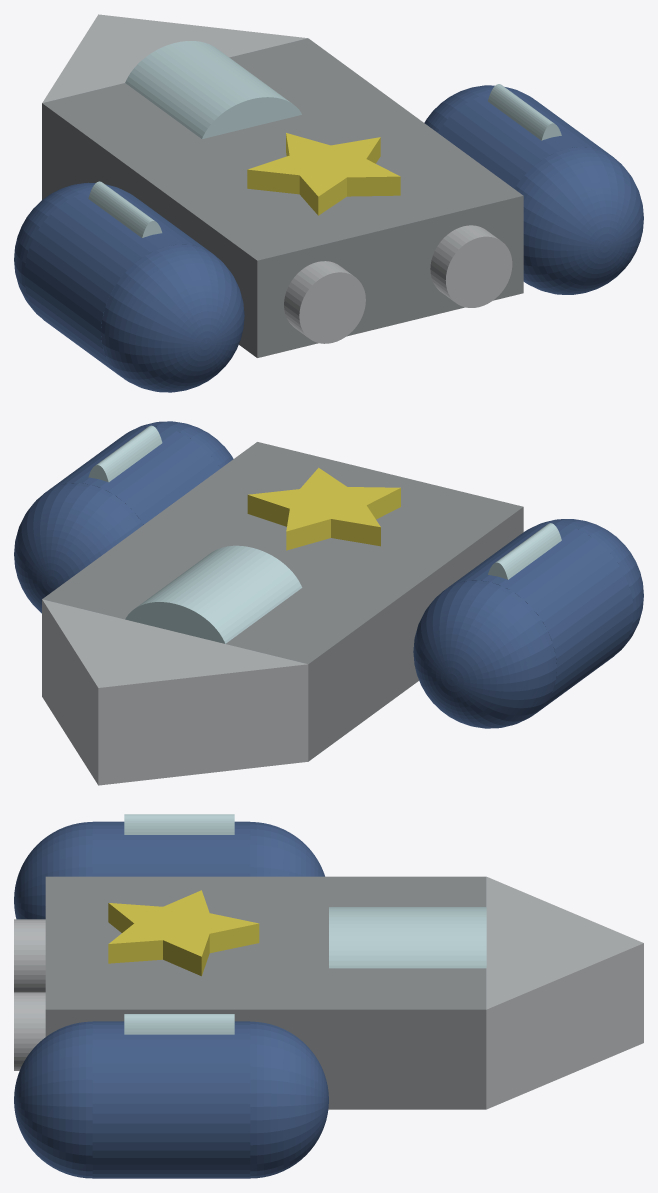
Rendered from elasticity_ship.glb.
3 views of the same model, one above another, from view 1: azimuth 30°, elevation 25°; view 2: azimuth 150°, elevation 25°; view 3: azimuth 270°, elevation 25° (orthographic). The views are drawn at different scales.
Visible parts, largest first — view 1: Mesh_Mesh_head_geo.001_lambert2SG.001; view 2: Mesh_Mesh_head_geo.001_lambert2SG.001; view 3: Mesh_Mesh_head_geo.001_lambert2SG.001.
Part boxes in pixels (x1,y1,x2,y2): Mesh_Mesh_head_geo.001_lambert2SG.001: (14,14,643,392); Mesh_Mesh_head_geo.001_lambert2SG.001: (14,421,643,785); Mesh_Mesh_head_geo.001_lambert2SG.001: (14,814,643,1178).
Bounding box in the file's own units: 0.04 × 0.011 × 0.04.
